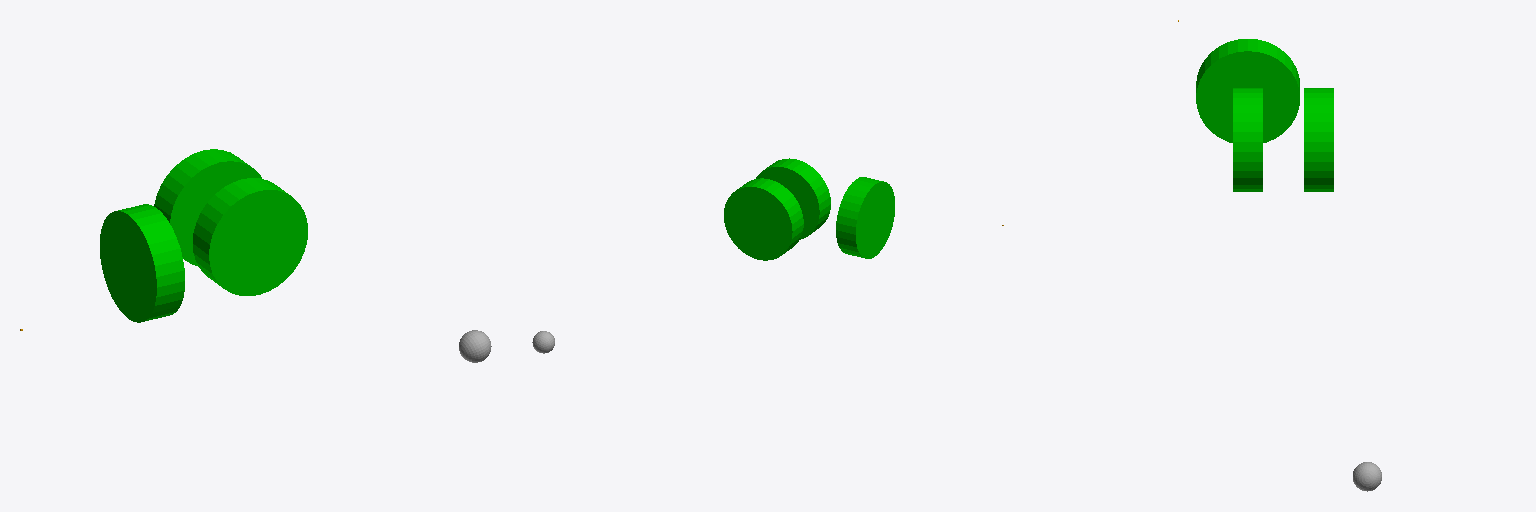
robot.urdf — go1:
<?xml version="1.0" ?>
<!-- =================================================================================== -->
<!-- |    This document was autogenerated by xacro from FL_leg.urdf.xacro              | -->
<!-- |    EDITING THIS FILE BY HAND IS NOT RECOMMENDED                                 | -->
<!-- =================================================================================== -->
<robot name="go1">
  <material name="black">
    <color rgba="0.0 0.0 0.0 1.0"/>
  </material>
  <material name="blue">
    <color rgba="0.0 0.0 0.8 1.0"/>
  </material>
  <material name="green">
    <color rgba="0.0 0.8 0.0 1.0"/>
  </material>
  <material name="grey">
    <color rgba="0.2 0.2 0.2 1.0"/>
  </material>
  <material name="silver">
    <color rgba="0.9137254901960784 0.9137254901960784 0.8470588235294118 1.0"/>
  </material>
  <material name="orange">
    <color rgba="1.0 0.4235294117647059 0.0392156862745098 1.0"/>
  </material>
  <material name="brown">
    <color rgba="0.8705882352941177 0.8117647058823529 0.7647058823529411 1.0"/>
  </material>
  <material name="red">
    <color rgba="0.8 0.0 0.0 1.0"/>
  </material>
  <material name="white">
    <color rgba="1.0 1.0 1.0 1.0"/>
  </material>
  <!-- Rotor related joint and link is only for demonstrate location. -->
  <!-- Actually, the rotor will rotate and the joint is not fixed. Reduction ratio should be considered. -->
  <link name="trunk">
    <visual>
      <origin rpy="0 0 0" xyz="0 0 0"/>
      <geometry>
        <box size="0.001 0.001 0.001"/>
      </geometry>
    </visual>
  </link>
  <joint name="FL_hip_joint" type="revolute">
    <origin rpy="0 0 0" xyz="0.1881 0.04675 0"/>
    <parent link="trunk"/>
    <child link="FL_hip"/>
    <axis xyz="1 0 0"/>
    <dynamics damping="0.01" friction="0.2"/>
    <limit effort="23.7" lower="-0.863" upper="0.863" velocity="30.1"/>
  </joint>
  <joint name="FL_hip_rotor_joint" type="fixed">
    <origin rpy="0 0 0" xyz="0.11215 0.04675 0"/>
    <parent link="trunk"/>
    <child link="FL_hip_rotor"/>
  </joint>
  <link name="FL_hip">
    <visual>
      <origin rpy="0 0 0" xyz="0 0 0"/>
      <geometry>
        <mesh filename="package://example-robot-data/robots/go1_leg_description/meshes/hip.dae" scale="1 1 1"/>
      </geometry>
      <!-- <material name="orange"/> -->
    </visual>
    <collision>
      <origin rpy="1.5707963267948966 0 0" xyz="0 0.08 0"/>
      <geometry>
        <cylinder length="0.04" radius="0.046"/>
      </geometry>
    </collision>
    <inertial>
      <origin rpy="0 0 0" xyz="-0.005657 -0.008752 -0.000102"/>
      <mass value="0.591"/>
      <inertia ixx="0.000334008405" ixy="-1.0826066e-05" ixz="1.290732e-06" iyy="0.000619101213" iyz="1.643194e-06" izz="0.00040057614"/>
    </inertial>
  </link>
  <link name="FL_hip_rotor">
    <visual>
      <origin rpy="0 1.5707963267948966 0" xyz="0 0 0"/>
      <geometry>
        <cylinder length="0.02" radius="0.035"/>
      </geometry>
      <material name="green"/>
    </visual>
    <collision>
      <origin rpy="0 1.5707963267948966 0" xyz="0 0 0"/>
      <geometry>
        <cylinder length="0.02" radius="0.035"/>
      </geometry>
    </collision>
    <inertial>
      <origin rpy="0 0 0" xyz="0.0 0.0 0.0"/>
      <mass value="0.089"/>
      <inertia ixx="0.000111842" ixy="0.0" ixz="0.0" iyy="5.9647e-05" iyz="0.0" izz="5.9647e-05"/>
    </inertial>
  </link>
  <joint name="FL_thigh_joint" type="revolute">
    <origin rpy="0 0 0" xyz="0 0.08 0"/>
    <parent link="FL_hip"/>
    <child link="FL_thigh"/>
    <axis xyz="0 1 0"/>
    <dynamics damping="0.01" friction="0.2"/>
    <limit effort="23.7" lower="-0.686" upper="4.501" velocity="30.1"/>
  </joint>
  <joint name="FL_thigh_rotor_joint" type="fixed">
    <origin rpy="0 0 0" xyz="0.0 -0.00015 0"/>
    <parent link="FL_hip"/>
    <child link="FL_thigh_rotor"/>
  </joint>
  <link name="FL_thigh">
    <visual>
      <origin rpy="0 0 0" xyz="0 0 0"/>
      <geometry>
        <mesh filename="package://example-robot-data/robots/go1_leg_description/meshes/thigh.dae" scale="1 1 1"/>
      </geometry>
      <!-- <material name="orange"/> -->
    </visual>
    <collision>
      <origin rpy="0 1.5707963267948966 0" xyz="0 0 -0.1065"/>
      <geometry>
        <box size="0.213 0.0245 0.034"/>
      </geometry>
    </collision>
    <inertial>
      <origin rpy="0 0 0" xyz="-0.003342 -0.018054 -0.033451"/>
      <mass value="0.92"/>
      <inertia ixx="0.004431760472" ixy="5.7496807e-05" ixz="-0.000218457134" iyy="0.004485671726" iyz="0.000572001265" izz="0.000740309489"/>
    </inertial>
  </link>
  <link name="FL_thigh_rotor">
    <visual>
      <origin rpy="1.5707963267948966 0 0" xyz="0 0 0"/>
      <geometry>
        <cylinder length="0.02" radius="0.035"/>
      </geometry>
      <material name="green"/>
    </visual>
    <collision>
      <origin rpy="1.5707963267948966 0 0" xyz="0 0 0"/>
      <geometry>
        <cylinder length="0.02" radius="0.035"/>
      </geometry>
    </collision>
    <inertial>
      <origin rpy="0 0 0" xyz="0.0 0.0 0.0"/>
      <mass value="0.089"/>
      <inertia ixx="5.9647e-05" ixy="0.0" ixz="0.0" iyy="0.000111842" iyz="0.0" izz="5.9647e-05"/>
    </inertial>
  </link>
  <joint name="FL_calf_joint" type="revolute">
    <origin rpy="0 0 0" xyz="0 0 -0.213"/>
    <parent link="FL_thigh"/>
    <child link="FL_calf"/>
    <axis xyz="0 1 0"/>
    <dynamics damping="0.01" friction="0.2"/>
    <limit effort="35.55" lower="-2.818" upper="-0.888" velocity="20.06"/>
  </joint>
  <joint name="FL_calf_rotor_joint" type="fixed">
    <origin rpy="0 0 0" xyz="0.0 -0.03235 0"/>
    <parent link="FL_thigh"/>
    <child link="FL_calf_rotor"/>
  </joint>
  <link name="FL_calf">
    <visual>
      <origin rpy="0 0 0" xyz="0 0 0"/>
      <geometry>
        <mesh filename="package://example-robot-data/robots/go1_leg_description/meshes/calf.dae" scale="1 1 1"/>
      </geometry>
      <!-- <material name="orange"/> -->
    </visual>
    <collision>
      <origin rpy="0 1.5707963267948966 0" xyz="0 0 -0.1065"/>
      <geometry>
        <box size="0.213 0.016 0.016"/>
      </geometry>
    </collision>
    <inertial>
      <origin rpy="0 0 0" xyz="0.006197 0.001408 -0.116695"/>
      <mass value="0.135862"/>
      <inertia ixx="0.001088793059" ixy="-2.55679e-07" ixz="7.117814e-06" iyy="0.001100428748" iyz="2.077264e-06" izz="2.4787446e-05"/>
    </inertial>
  </link>
  <link name="FL_calf_rotor">
    <visual>
      <origin rpy="1.5707963267948966 0 0" xyz="0 0 0"/>
      <geometry>
        <cylinder length="0.02" radius="0.035"/>
      </geometry>
      <material name="green"/>
    </visual>
    <collision>
      <origin rpy="1.5707963267948966 0 0" xyz="0 0 0"/>
      <geometry>
        <cylinder length="0.02" radius="0.035"/>
      </geometry>
    </collision>
    <inertial>
      <origin rpy="0 0 0" xyz="0.0 0.0 0.0"/>
      <mass value="0.089"/>
      <inertia ixx="5.9647e-05" ixy="0.0" ixz="0.0" iyy="0.000111842" iyz="0.0" izz="5.9647e-05"/>
    </inertial>
  </link>
  <joint name="FL_foot_fixed" type="fixed">
    <origin rpy="0 0 0" xyz="0 0 -0.213"/>
    <parent link="FL_calf"/>
    <child link="FL_foot"/>
  </joint>
  <link name="FL_foot">
    <visual>
      <origin rpy="0 0 0" xyz="0 0 0"/>
      <geometry>
        <sphere radius="0.01"/>
      </geometry>
      <!-- <material name="orange"/> -->
    </visual>
    <collision>
      <origin rpy="0 0 0" xyz="0 0 0"/>
      <geometry>
        <sphere radius="0.02"/>
      </geometry>
    </collision>
    <inertial>
      <mass value="0.06"/>
      <inertia ixx="9.600000000000001e-06" ixy="0.0" ixz="0.0" iyy="9.600000000000001e-06" iyz="0.0" izz="9.600000000000001e-06"/>
    </inertial>
  </link>
  <transmission name="FL_hip_tran">
    <type>transmission_interface/SimpleTransmission</type>
    <joint name="FL_hip_joint">
      <hardwareInterface>hardware_interface/EffortJointInterface</hardwareInterface>
    </joint>
    <actuator name="FL_hip_motor">
      <hardwareInterface>hardware_interface/EffortJointInterface</hardwareInterface>
      <mechanicalReduction>1</mechanicalReduction>
    </actuator>
  </transmission>
  <transmission name="FL_thigh_tran">
    <type>transmission_interface/SimpleTransmission</type>
    <joint name="FL_thigh_joint">
      <hardwareInterface>hardware_interface/EffortJointInterface</hardwareInterface>
    </joint>
    <actuator name="FL_thigh_motor">
      <hardwareInterface>hardware_interface/EffortJointInterface</hardwareInterface>
      <mechanicalReduction>1</mechanicalReduction>
    </actuator>
  </transmission>
  <transmission name="FL_calf_tran">
    <type>transmission_interface/SimpleTransmission</type>
    <joint name="FL_calf_joint">
      <hardwareInterface>hardware_interface/EffortJointInterface</hardwareInterface>
    </joint>
    <actuator name="FL_calf_motor">
      <hardwareInterface>hardware_interface/EffortJointInterface</hardwareInterface>
      <mechanicalReduction>1</mechanicalReduction>
    </actuator>
  </transmission>
</robot>

--- Render facts (derived) ---
3 views of the same robot in one strip: view 1: azimuth 30°, elevation 25°; view 2: azimuth 150°, elevation 25°; view 3: azimuth 270°, elevation 25° (orthographic).
Model go1 with 8 links and 7 joints (3 revolute, 4 fixed), rooted at trunk, posed all joints at 0 but 1 set to mid-range because 0 is outside their limits (FL_calf_joint = -1.85).
Links seen in each view (by area): view 1: FL_thigh_rotor, FL_hip_rotor, FL_calf_rotor, FL_foot; view 2: FL_calf_rotor, FL_hip_rotor, FL_thigh_rotor; view 3: FL_hip_rotor, FL_thigh_rotor, FL_calf_rotor, FL_foot.
Link boxes in pixels (x1=…): FL_thigh_rotor: x1=193, y1=178, x2=307, y2=295; FL_hip_rotor: x1=100, y1=204, x2=184, y2=322; FL_calf_rotor: x1=154, y1=149, x2=261, y2=266; FL_foot: x1=459, y1=330, x2=491, y2=362; FL_calf_rotor: x1=724, y1=178, x2=803, y2=260; FL_hip_rotor: x1=836, y1=177, x2=894, y2=258; FL_thigh_rotor: x1=756, y1=158, x2=830, y2=239; FL_hip_rotor: x1=1196, y1=39, x2=1299, y2=142; FL_thigh_rotor: x1=1233, y1=88, x2=1262, y2=191; FL_calf_rotor: x1=1304, y1=88, x2=1333, y2=191; FL_foot: x1=1353, y1=462, x2=1381, y2=491.
Size in the robot's own frame: 0.4031 by 0.1372 by 0.1986 metres.
0 mesh visuals loaded from 3 distinct referenced files (none loaded); not drawn: 3 (reference not matched to a file when rendering).